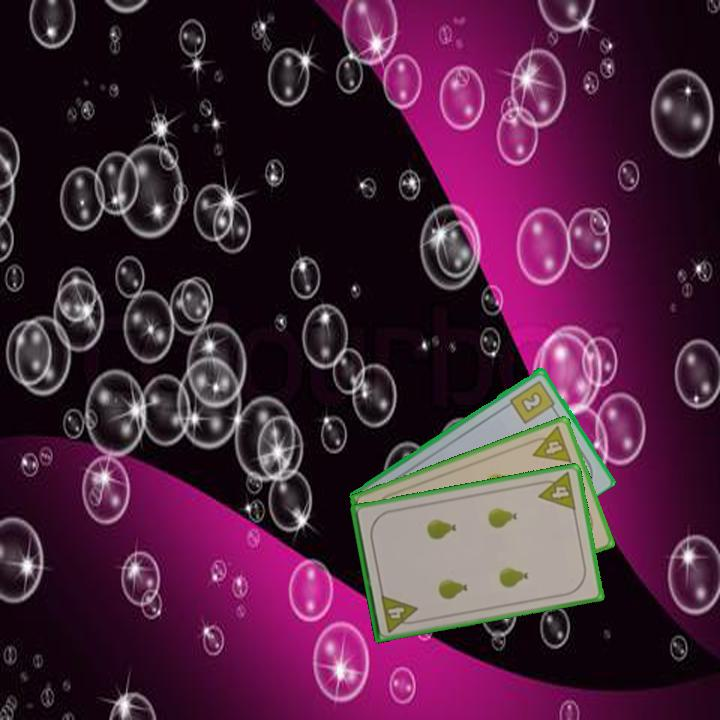2b: (506, 377, 559, 426)
4p: (525, 423, 575, 466), (533, 469, 579, 513), (377, 591, 422, 635)
